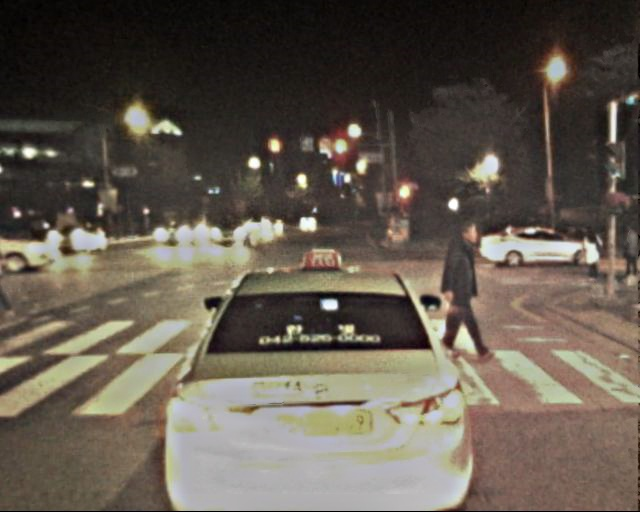person: (429, 222, 488, 366), (1, 218, 28, 322), (578, 228, 604, 292), (617, 228, 640, 285)
